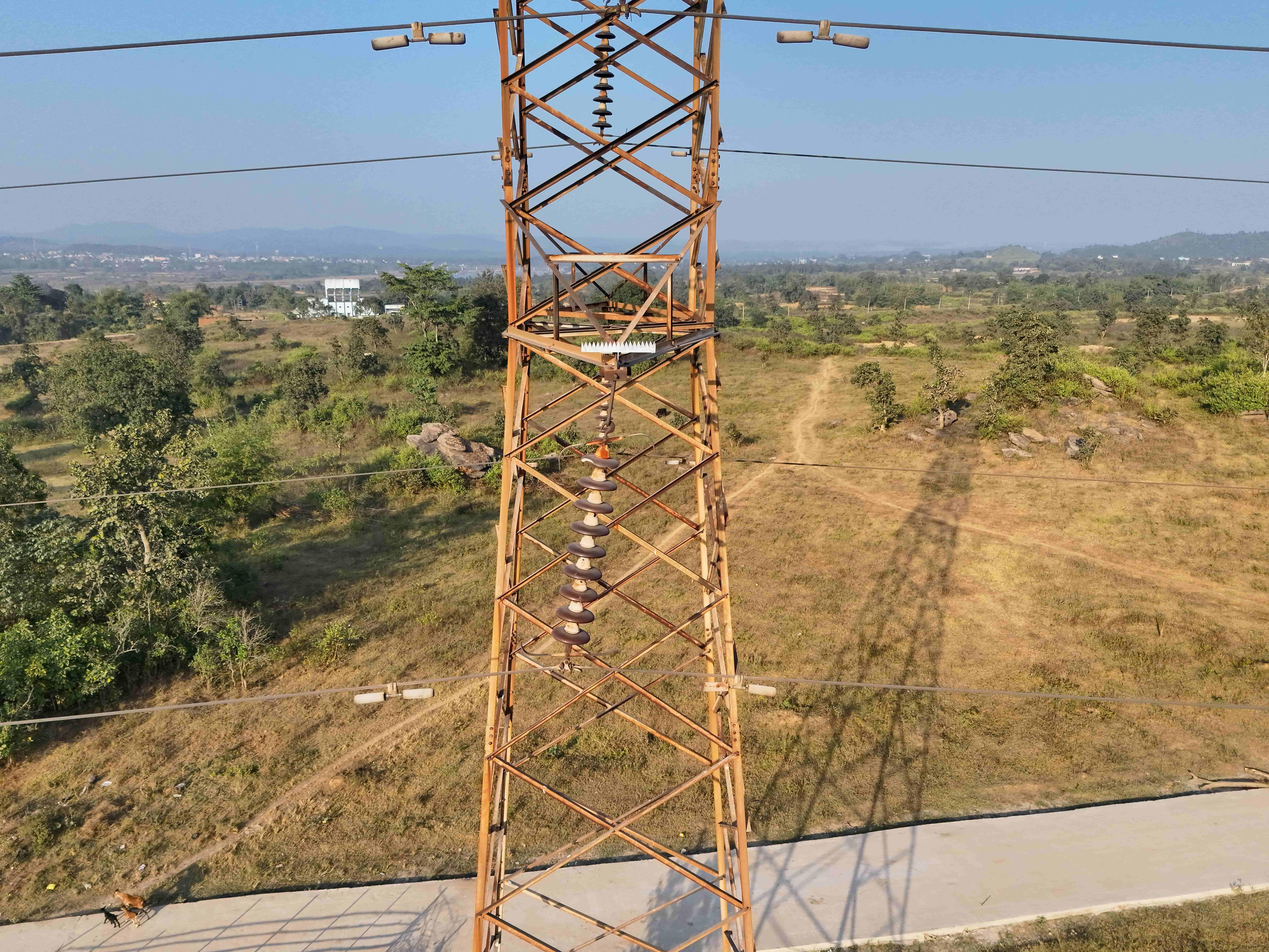broken_insulator: (578, 450, 622, 474)
